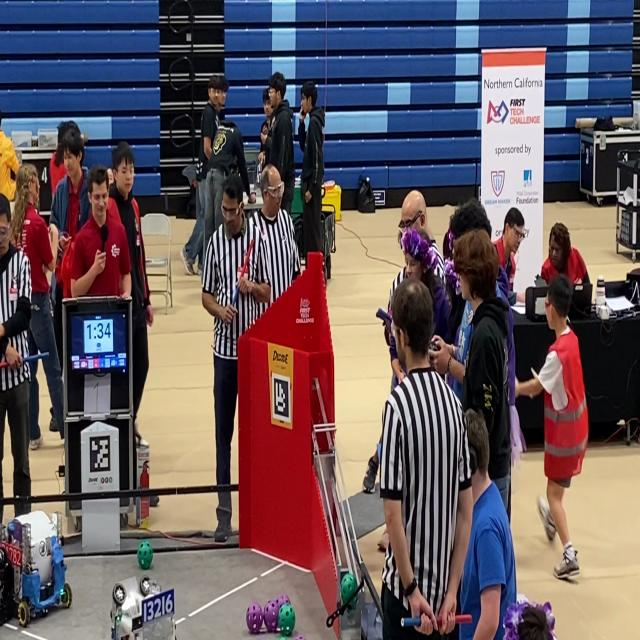artifact_green: (279, 604, 295, 636), (341, 573, 357, 603), (137, 541, 153, 570)
artifact_purple: (247, 601, 263, 634), (264, 601, 279, 632), (275, 594, 290, 608), (295, 636, 305, 639)
